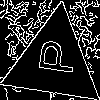P: (29, 37, 77, 77)
